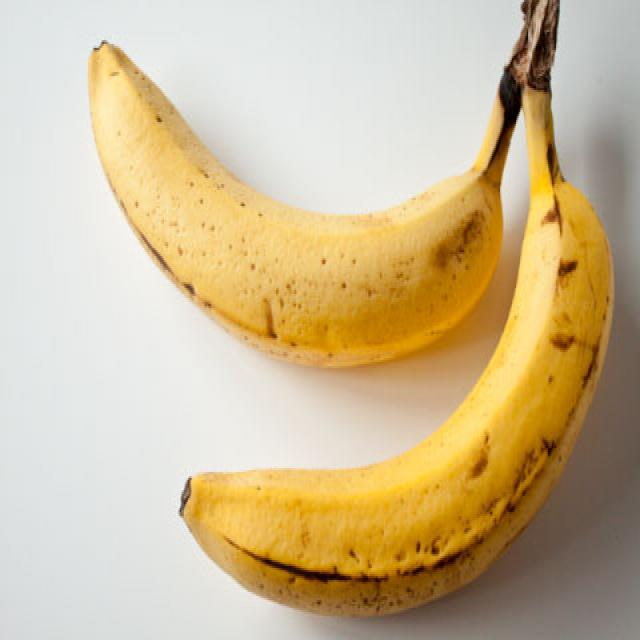Banana: (182, 179, 620, 623), (79, 32, 503, 359)
